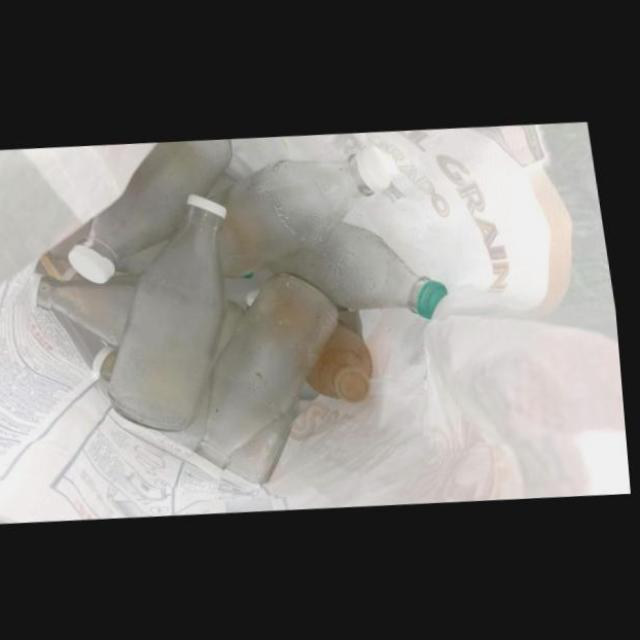chai_thuy_tinh: (193, 271, 344, 479), (113, 193, 234, 432), (214, 144, 400, 278), (73, 137, 241, 283), (292, 219, 454, 317), (36, 272, 144, 345)
